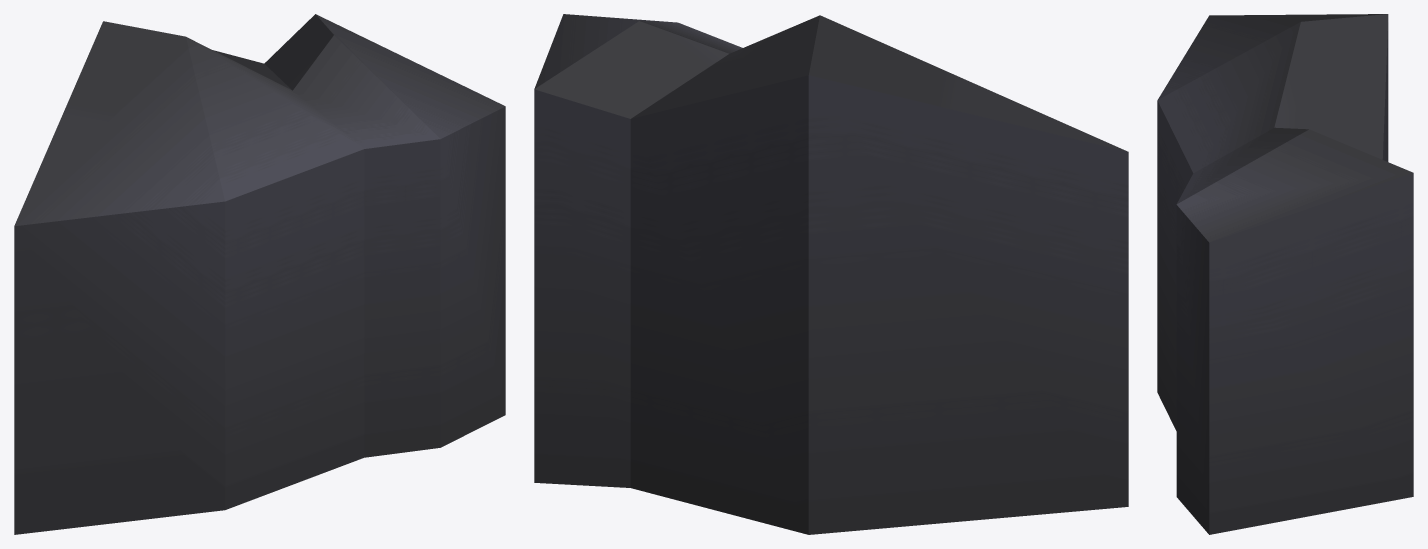
The model's file is Fire-Border.fbx.
The picture shows the model from 3 angles, left to right: view 1: azimuth 30°, elevation 25°; view 2: azimuth 150°, elevation 25°; view 3: azimuth 270°, elevation 25°; orthographic projection. The views are drawn at different scales.
Visible parts, largest first — view 1: Arena_Decoration_Small.002; view 2: Arena_Decoration_Small.002; view 3: Arena_Decoration_Small.002.
Boxes of the visible parts, box(x1,y1,x2,y2) form: Arena_Decoration_Small.002: box(14, 14, 505, 534); Arena_Decoration_Small.002: box(534, 14, 1128, 534); Arena_Decoration_Small.002: box(1157, 14, 1413, 534).
Size of the model in its own units: 1.5 by 1.19 by 0.7146.
